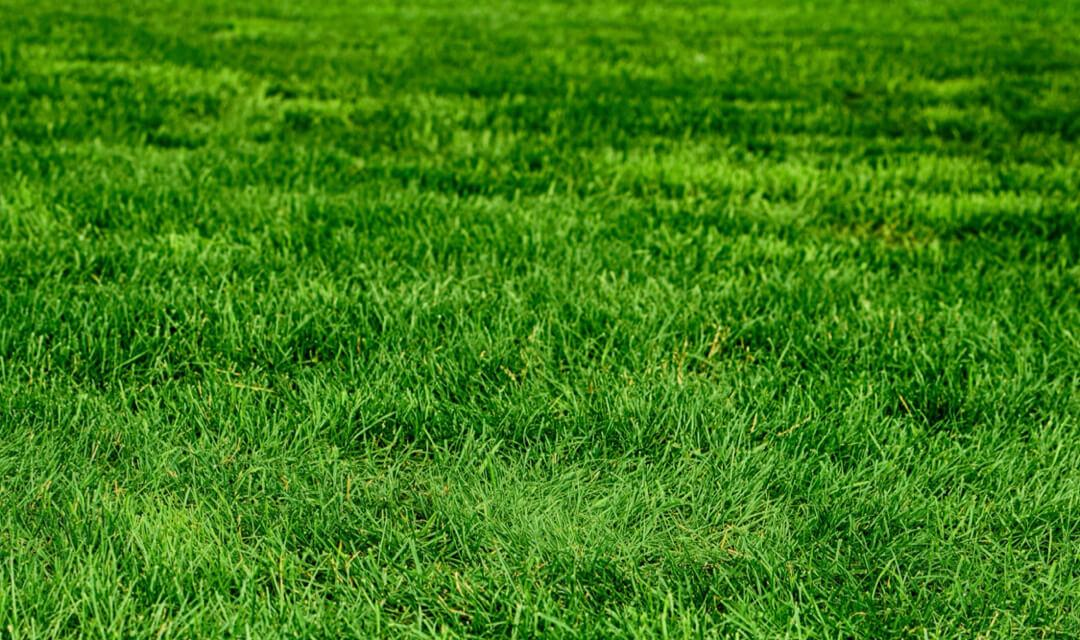grass: (2, 2, 1080, 640)
